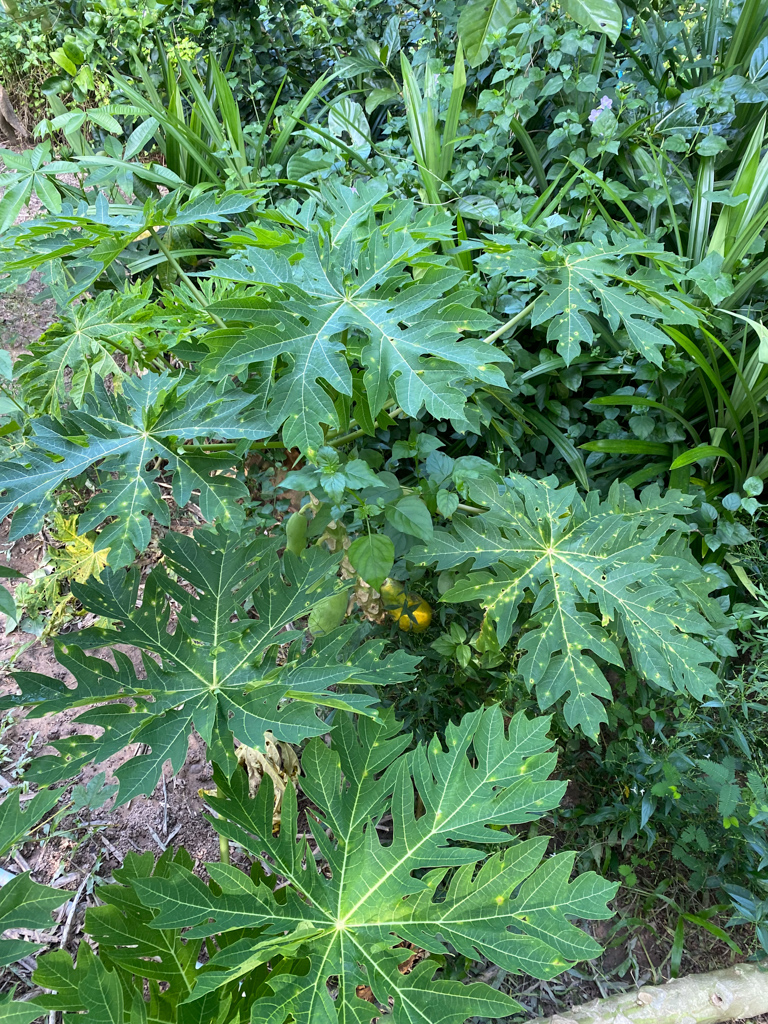Alternaria brassicicola: (559, 635, 596, 703), (121, 462, 150, 547), (470, 577, 528, 618), (562, 270, 581, 348), (202, 479, 236, 520), (492, 894, 535, 924), (184, 630, 221, 664), (628, 614, 664, 645), (629, 596, 673, 621), (547, 572, 568, 617), (531, 498, 556, 527), (61, 739, 89, 763), (468, 543, 524, 555), (92, 592, 120, 615), (139, 598, 158, 623), (383, 328, 400, 350), (265, 582, 282, 599), (595, 571, 612, 587), (353, 298, 371, 310), (310, 646, 323, 661), (59, 643, 73, 656)
